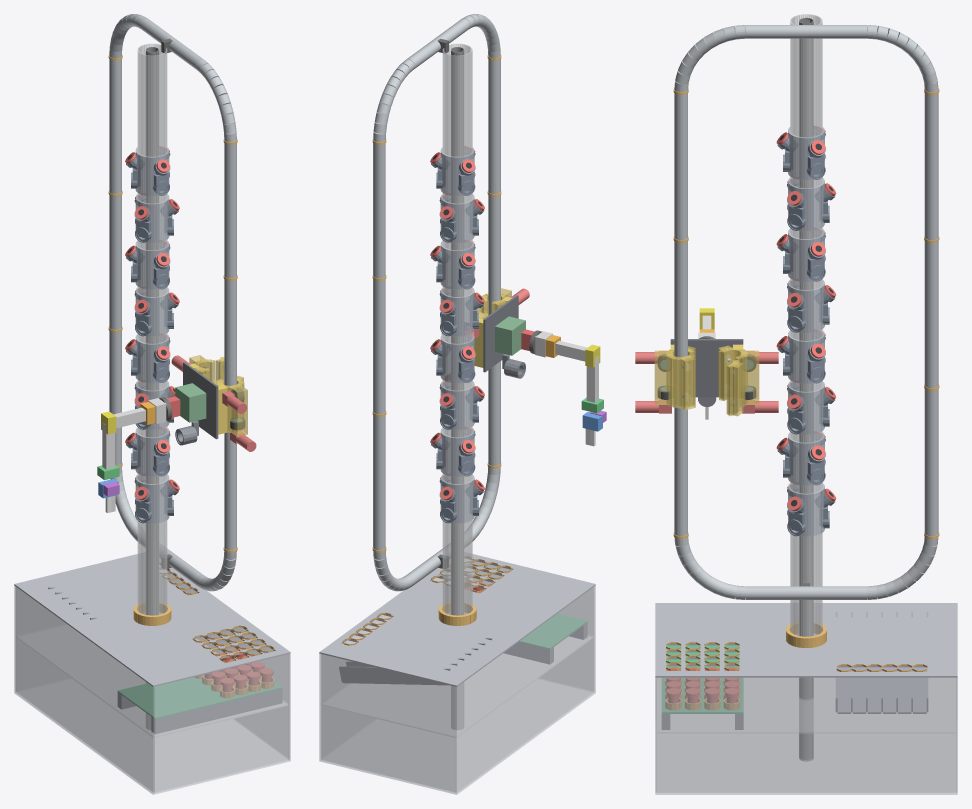
Rendered from reach-test-cart-asis-v3.glb.
3 renders of one model, left to right at view 1: azimuth 30°, elevation 25°; view 2: azimuth 150°, elevation 25°; view 3: azimuth 270°, elevation 25°, orthographic. The views are drawn at different scales.
Bounding box in the file's own units: 0.483 × 1.9 × 0.746.
